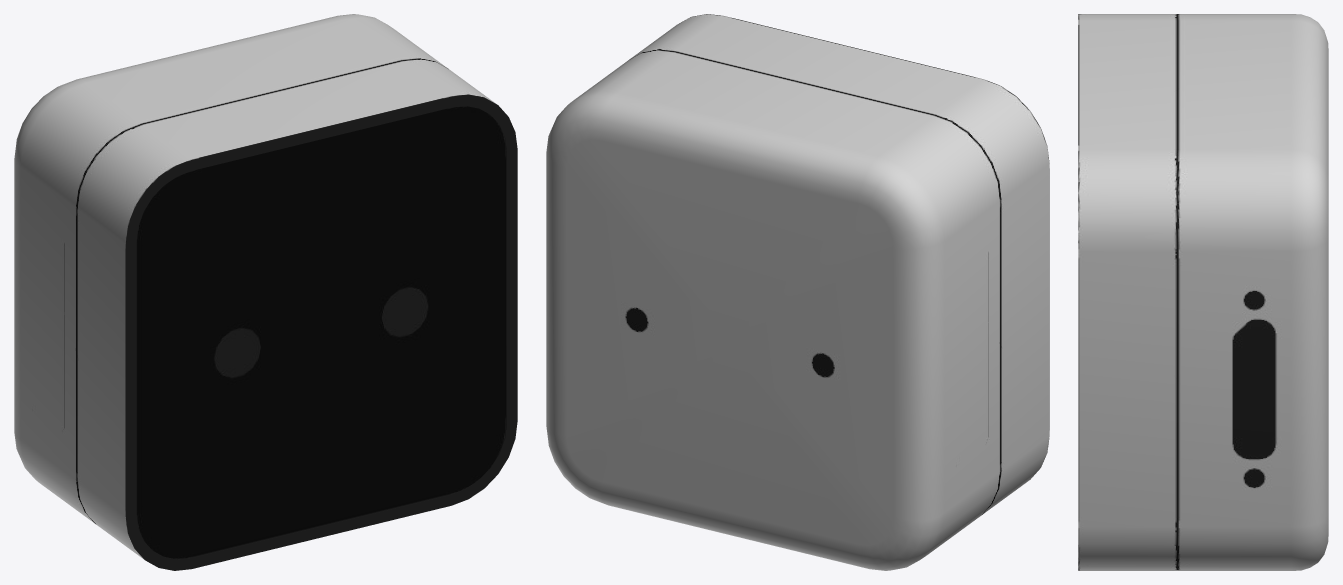
The picture shows the model from 3 angles, left to right: view 1: azimuth 30°, elevation 25°; view 2: azimuth 150°, elevation 25°; view 3: azimuth 270°, elevation 25°; orthographic projection.
Visible parts, largest first — view 1: geo1; view 2: geo1; view 3: geo1.
Part boxes in pixels (left/top/right/bottom): geo1: left=14, top=14, right=517, bottom=570; geo1: left=546, top=14, right=1049, bottom=570; geo1: left=1078, top=14, right=1328, bottom=570.
Size of the model in its own units: 0.0421 by 0.042 by 0.023.
1 material, 1 textured.
